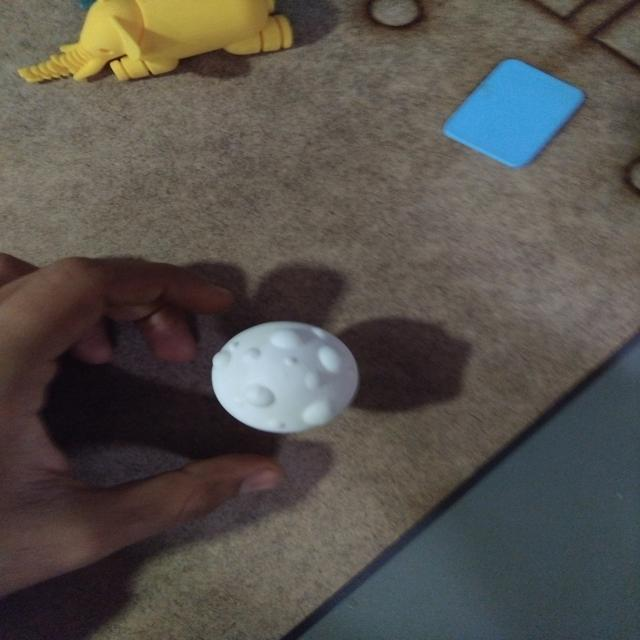Hongo: (185, 306, 378, 442)
